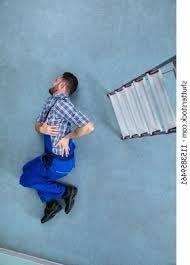fall: (1, 94, 114, 201)
